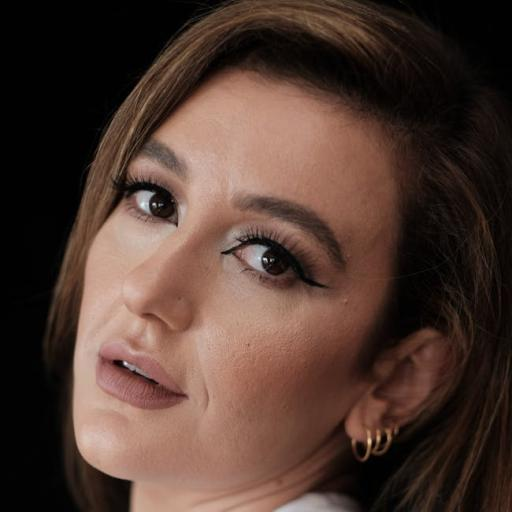lipstick: (97, 342, 187, 408)
